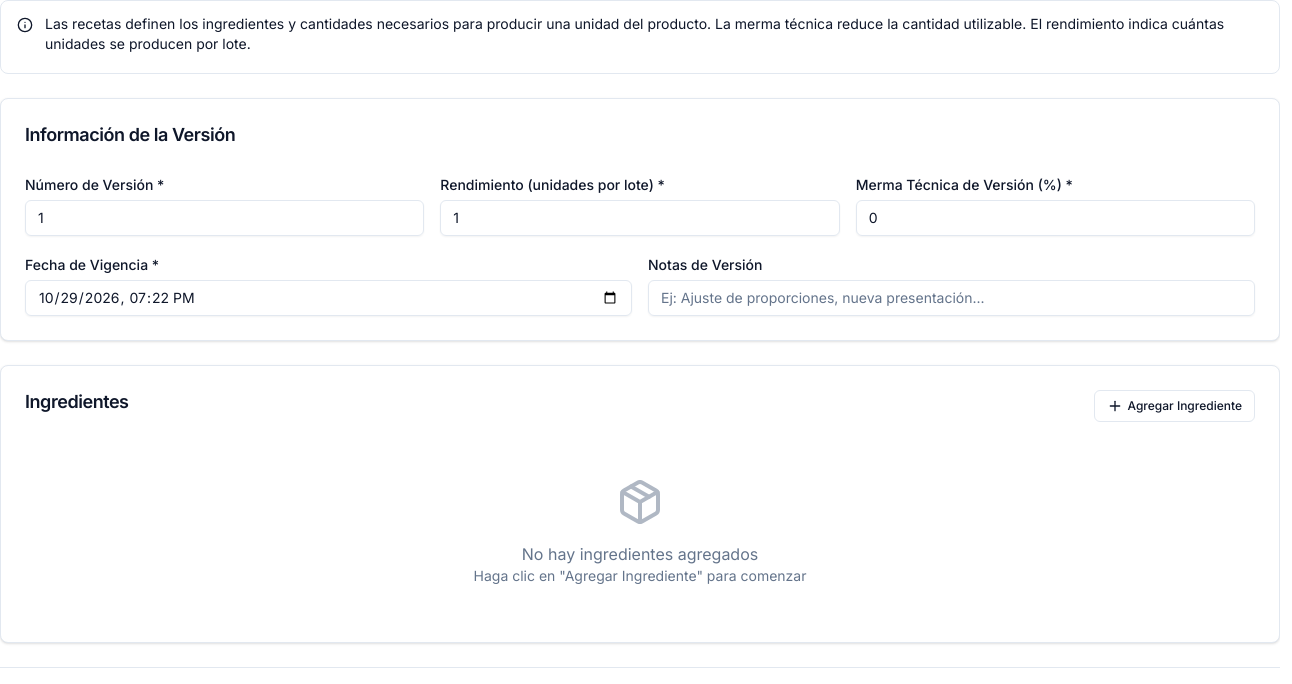
Test: RecipeForm componentes: Tipo, ingrediente y UOM (R15 / S12) › en receta nueva, elegir el insumo fija el ingrediente y desbloquea su unidad
This screenshot has width=1292, height=684.
Click the button "Agregar Ingrediente". click: coordinates (1175, 406)
box: [1094, 390, 1255, 422]
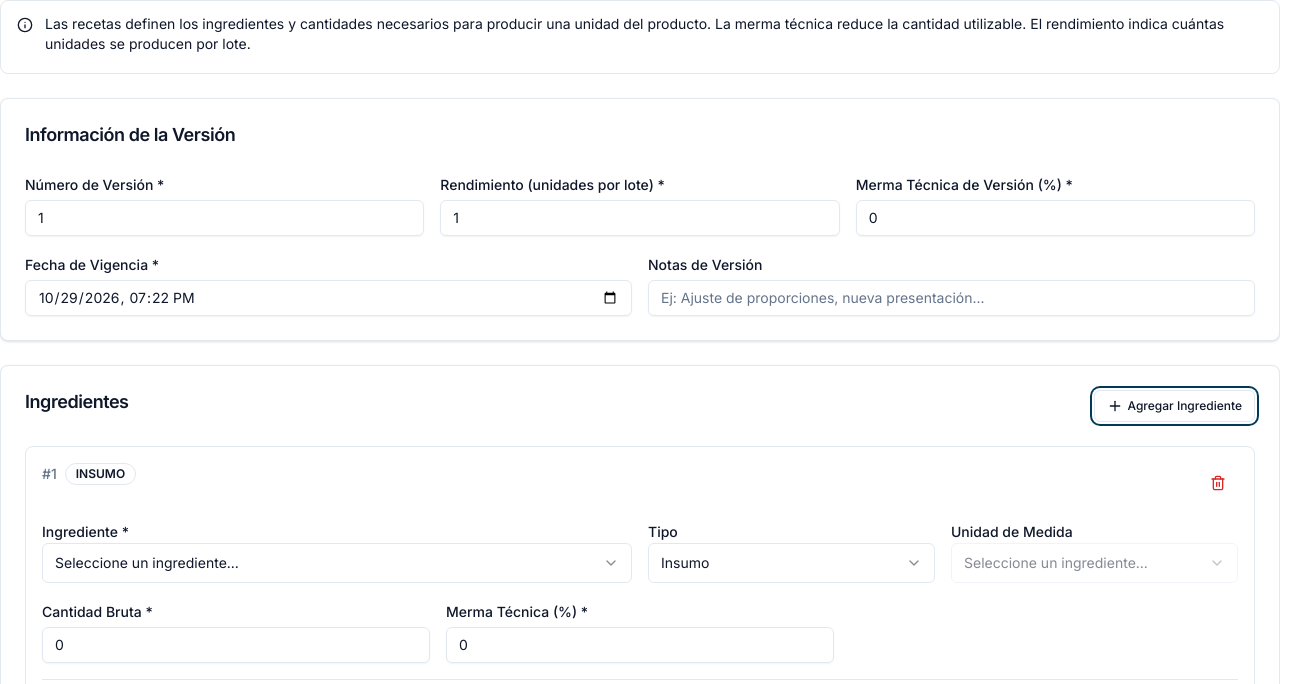
Click the dropdown labelled "Seleccione un ingrediente..." below "Ingrediente *". click: coordinates (147, 562)
box: [42, 543, 632, 583]
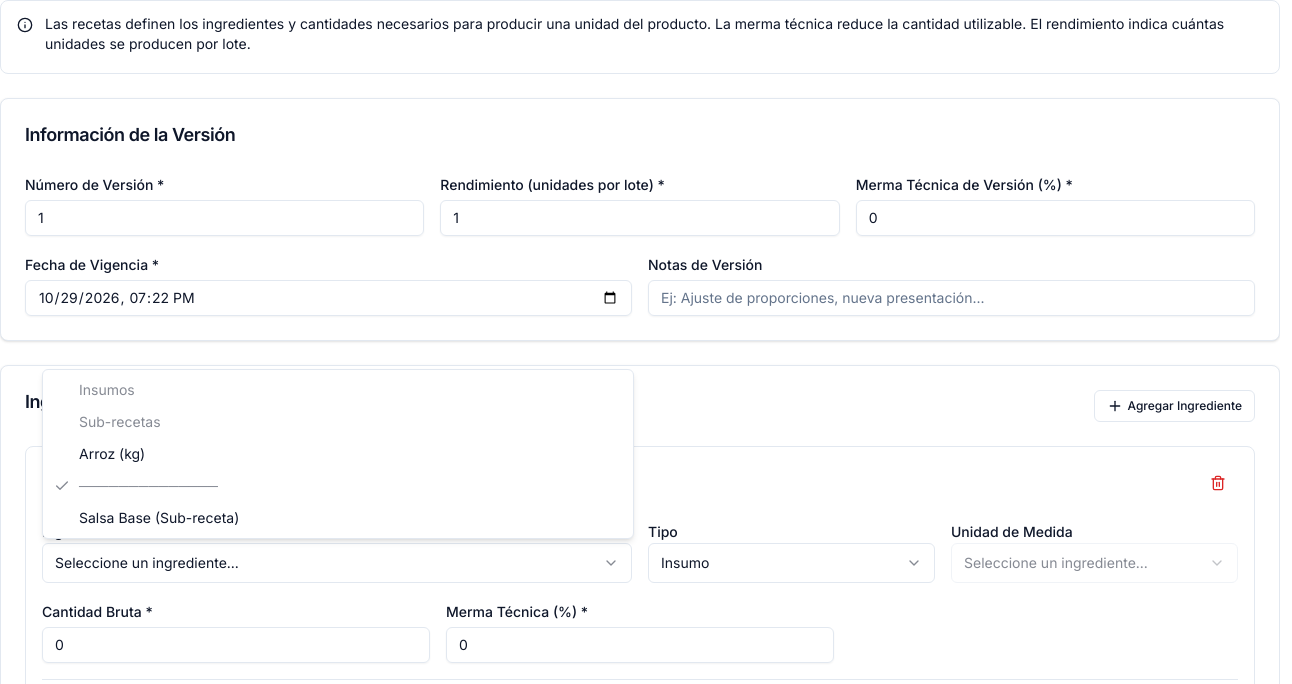
Click the option "Arroz (kg)". click: coordinates (112, 454)
box: [79, 445, 145, 462]
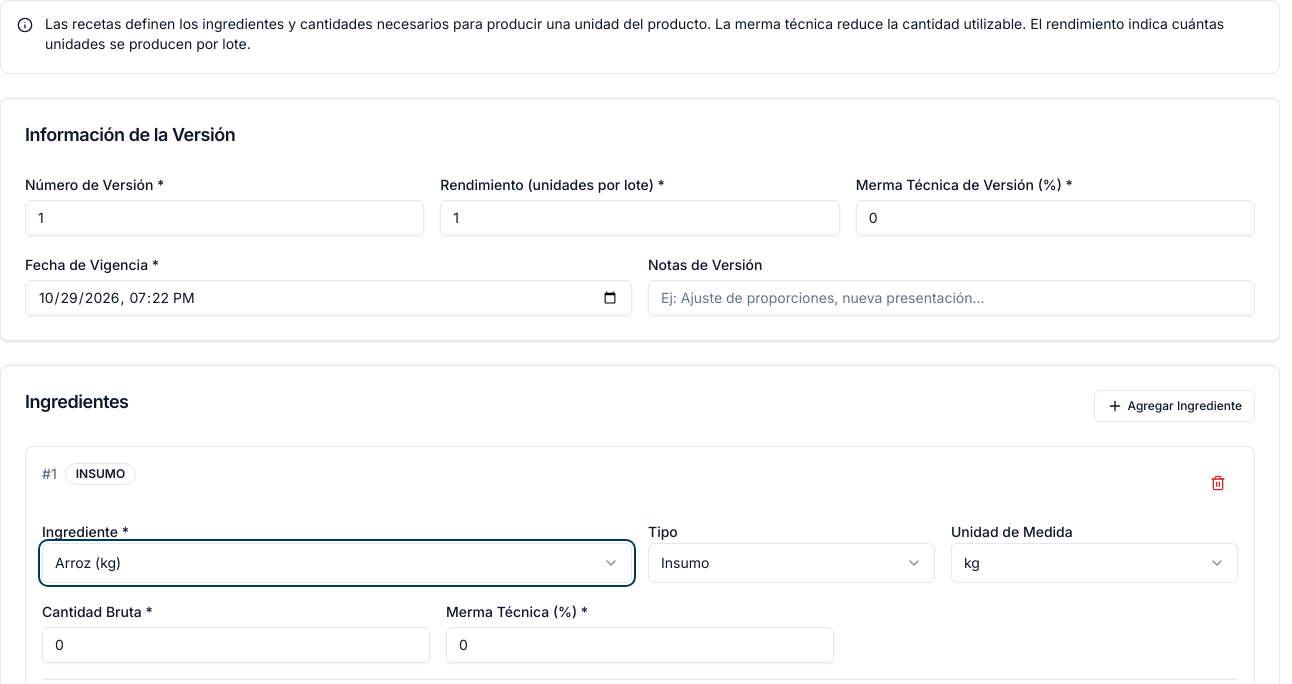
Check: the dropdown named "Ingrediente" shows "Arroz", box [42, 543, 632, 583]
Check: the dropdown named "Unidad de Medida" is enabled, box [951, 543, 1238, 583]
Check: the dropdown named "Unidad de Medida" reads "kg", box [951, 543, 1238, 583]
